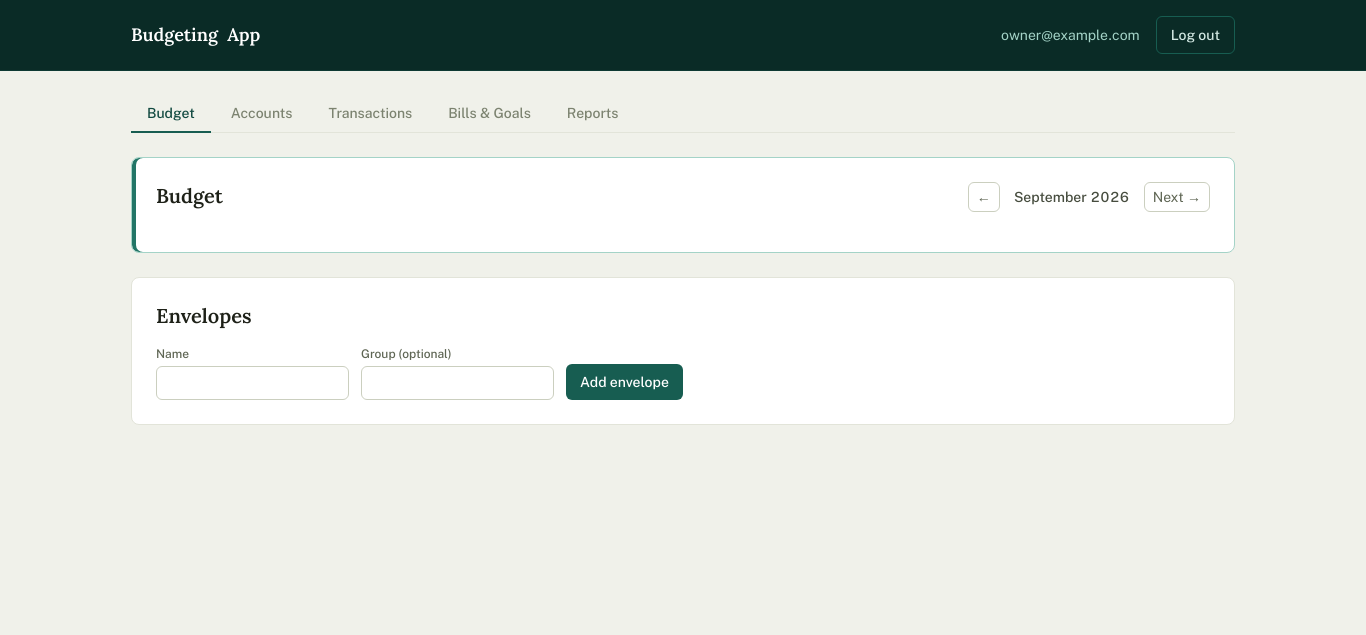
Test: App › shows the dashboard when a session already exists
The width and height of the screenshot is (1366, 635).
Expected: the text "owner@example.com" is shown, [1001,25,1140,45]
Expected: the heading "Budget" is shown, [156,182,223,210]
What coordinates should you click on to do the following:
click the tab "Accounts"
I would click on:
 (262, 114)
Its box is [215,95,308,133].
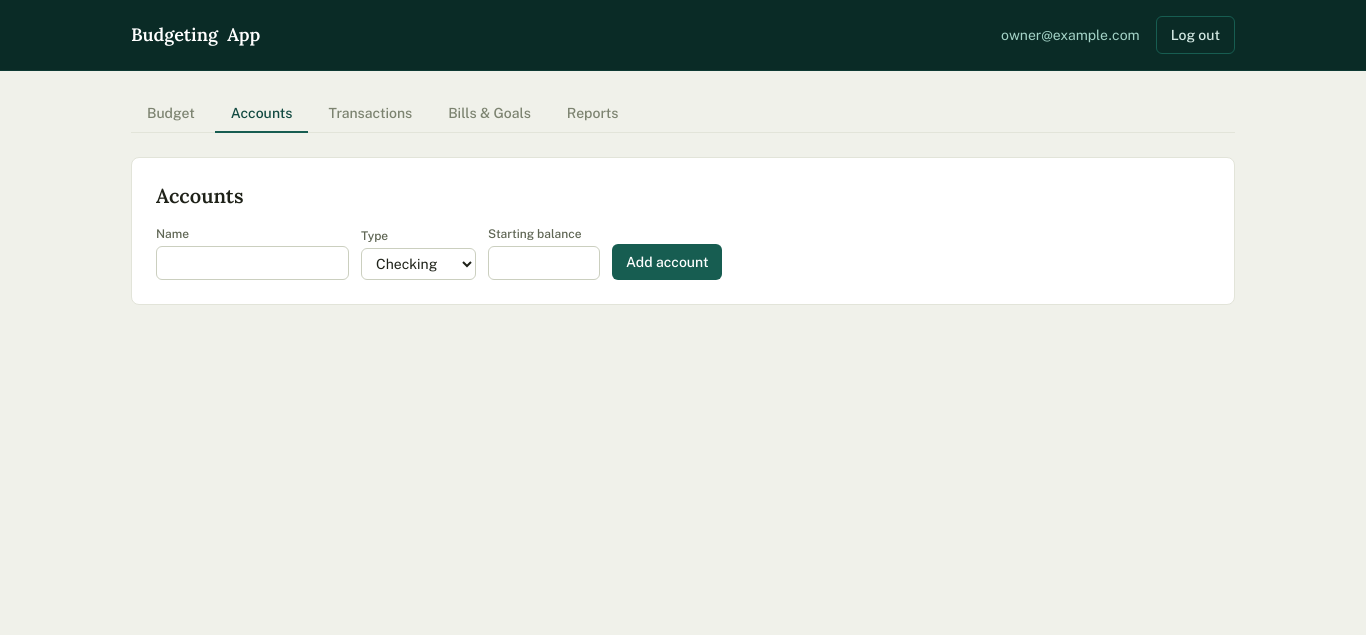
Expected: the heading "Accounts" is shown, [156,182,244,210]
What coordinates should you click on to do the following:
click the tab "Transactions"
I would click on:
 (370, 114)
Its box is [312,95,428,133].
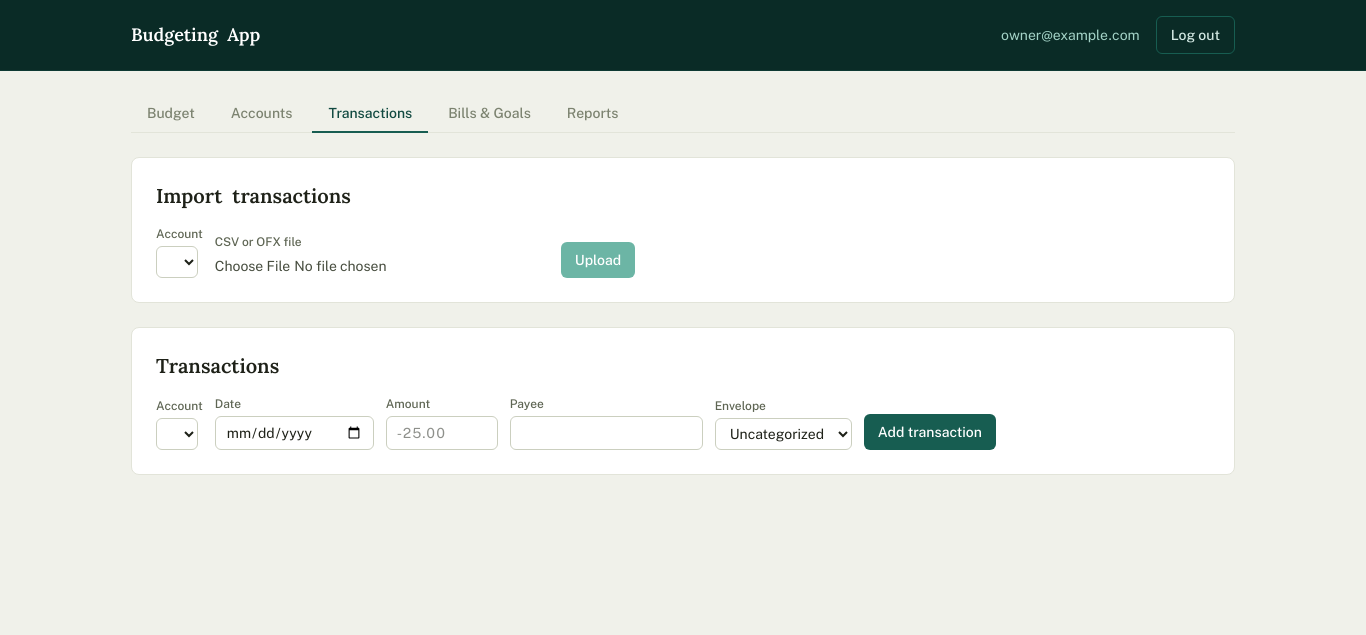
Expected: the heading "Transactions" is shown, [156,352,279,380]
What coordinates should you click on to do the following:
click the tab "Bills & Goals"
I would click on:
 (490, 114)
Its box is [432,95,547,133].
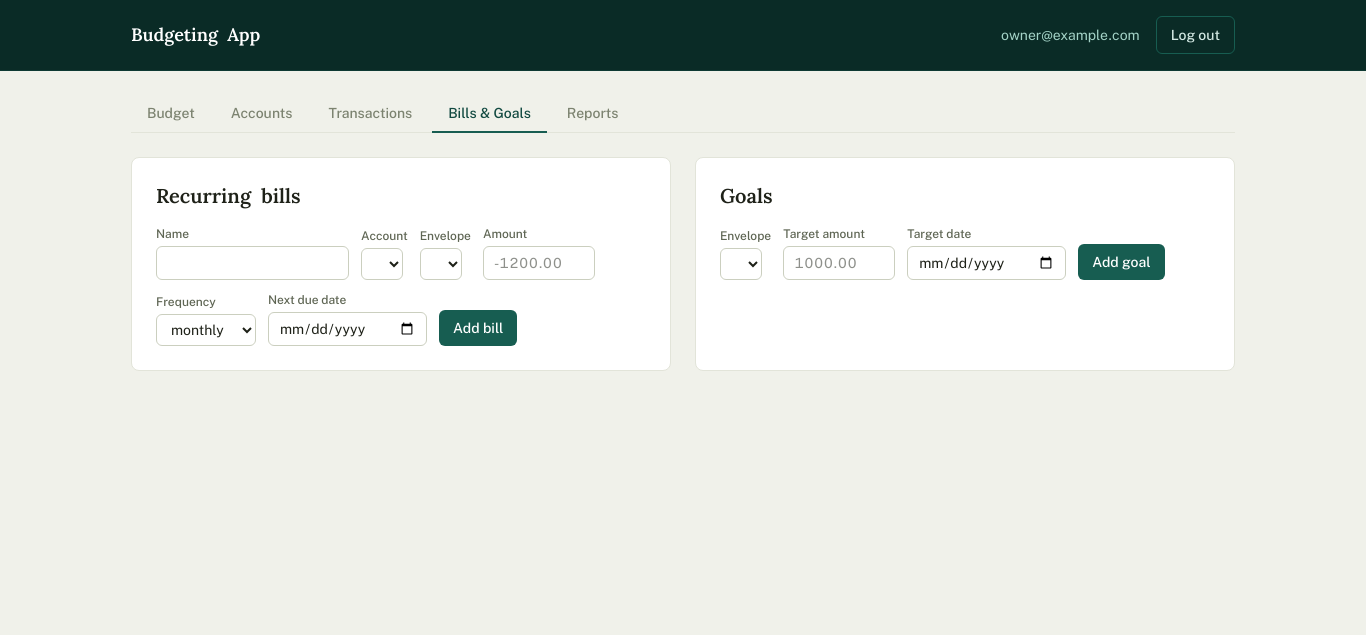
Expected: the heading "Recurring bills" is shown, [156,182,300,210]
Expected: the heading "Goals" is shown, [720,182,772,210]
What coordinates should you click on to do the following:
click the tab "Reports"
I would click on:
 (593, 114)
Its box is [551,95,634,133].
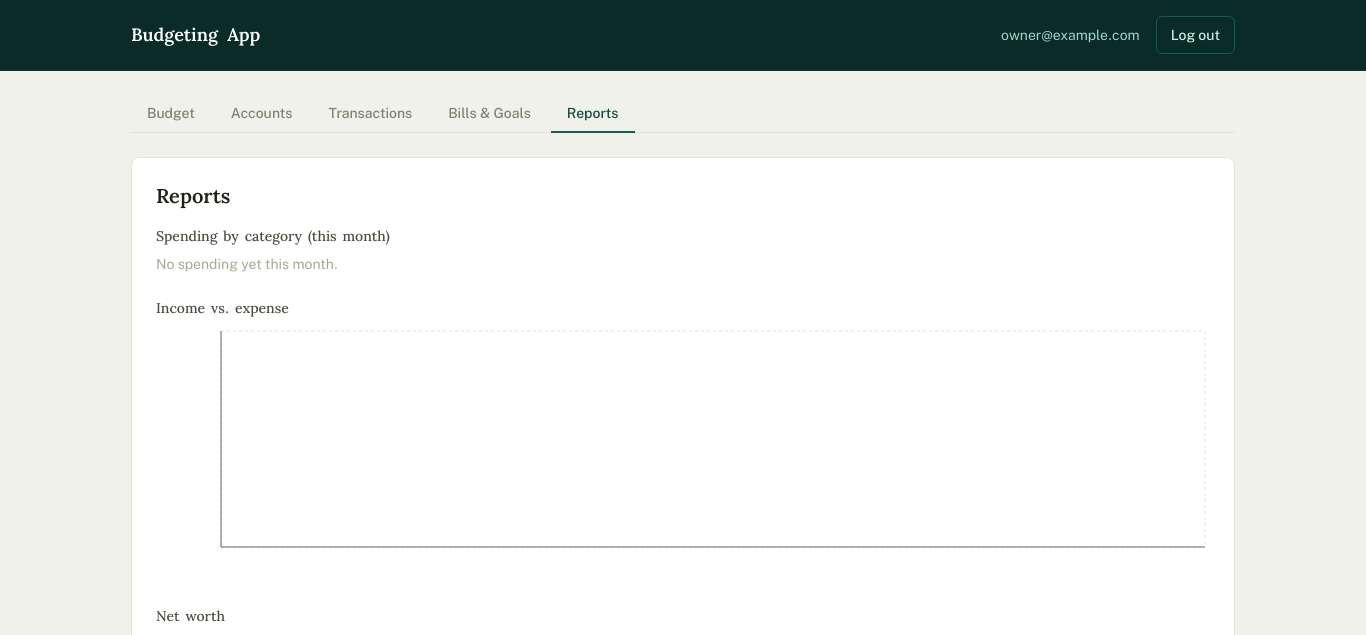
Expected: the heading "Reports" is shown, [156,182,230,210]
